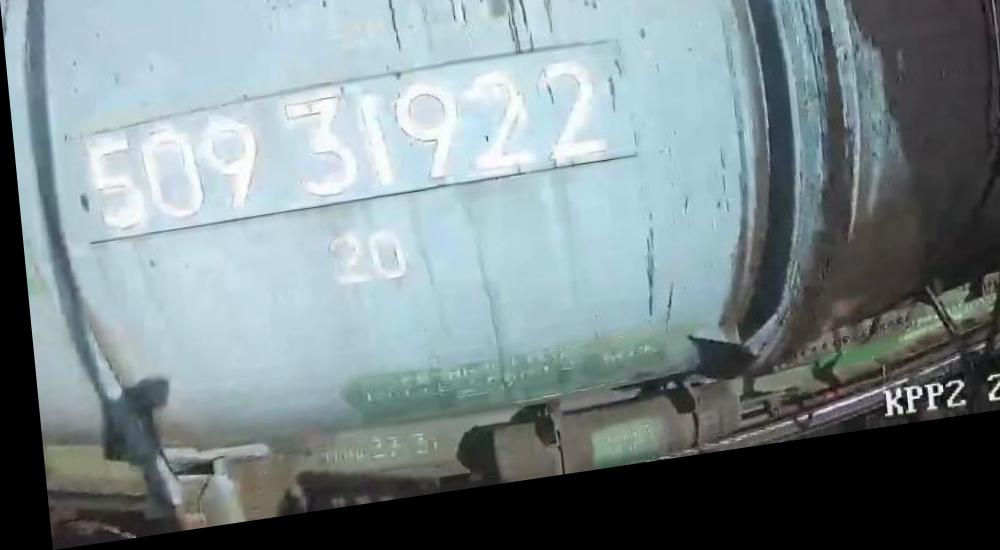Wagon-number: (80, 66, 610, 241)
